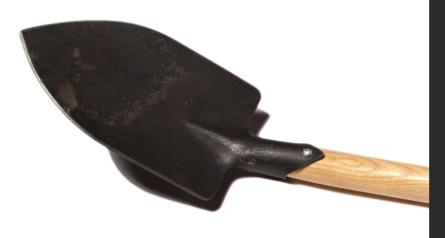PELLE: (13, 12, 445, 238)
